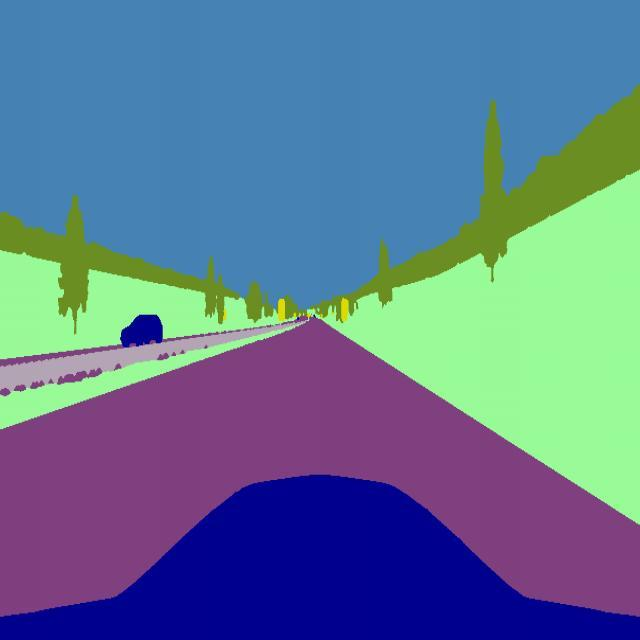safe: (118, 308, 164, 352)
